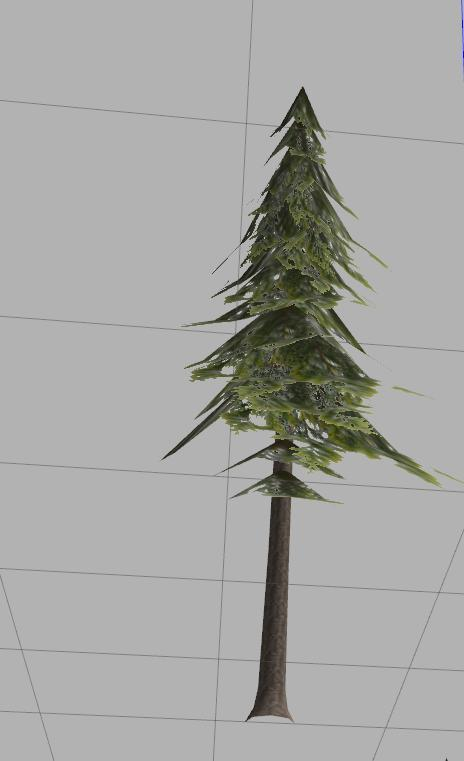tree_gazebo: (163, 88, 438, 720)
